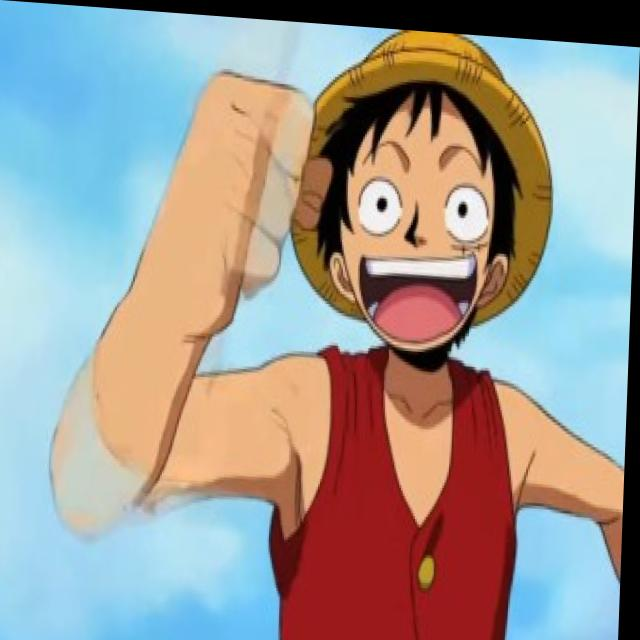Luffy: (277, 18, 577, 366)
